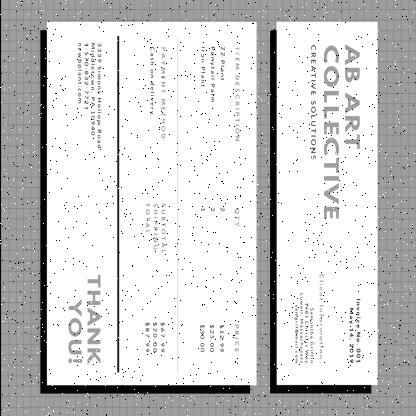Paragraph: (308, 40, 362, 222), (141, 199, 169, 355), (65, 270, 103, 370), (74, 39, 104, 153), (292, 271, 326, 367), (144, 42, 168, 141), (346, 296, 362, 366)
Table: (194, 41, 242, 357)
